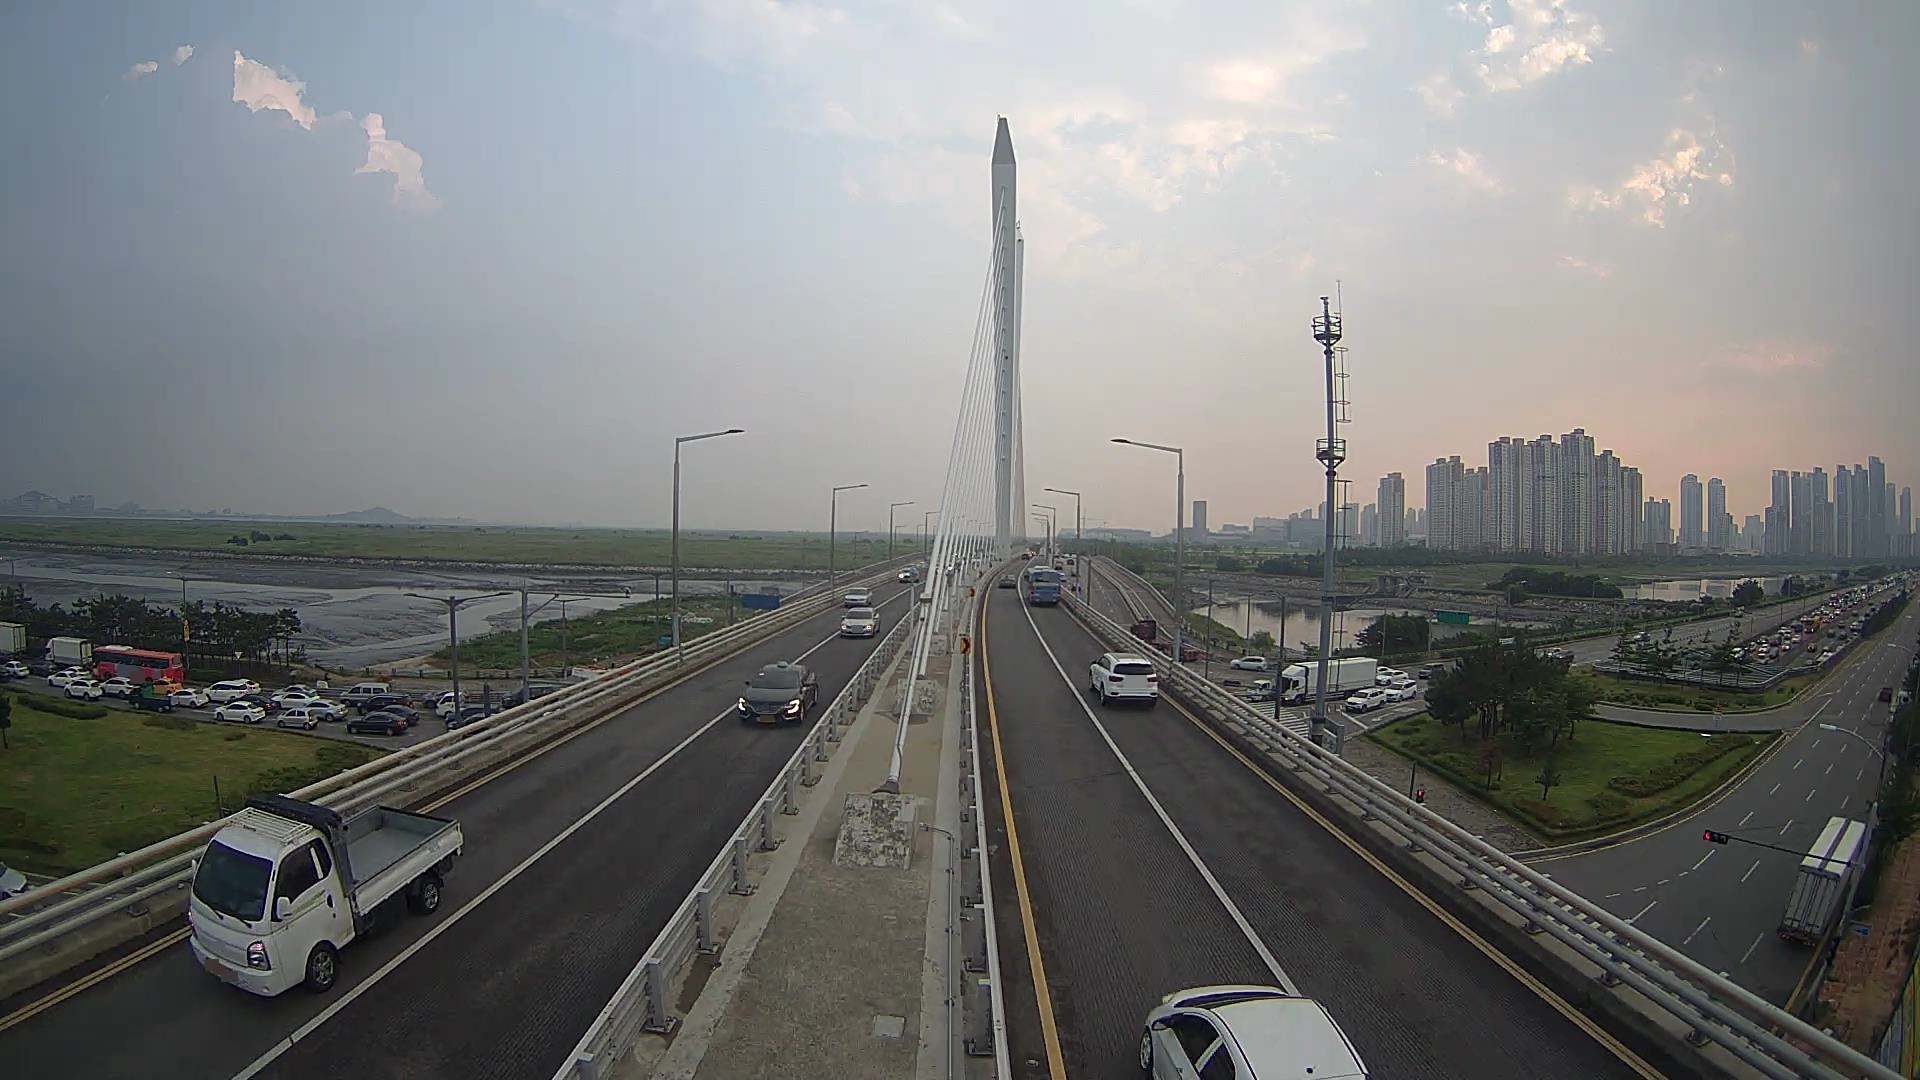정상차량: (189, 793, 465, 996)
